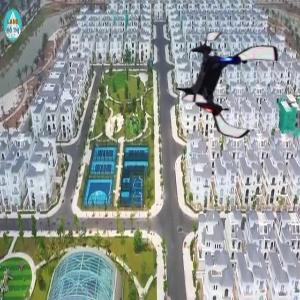drone: (172, 31, 283, 142)
